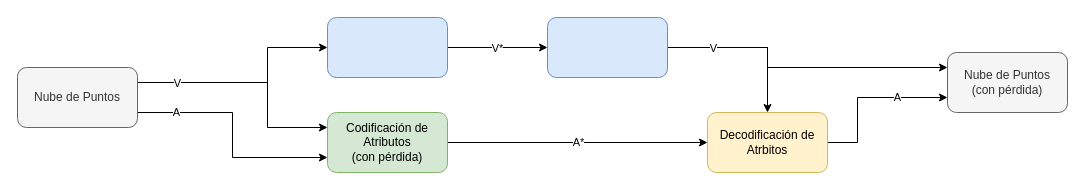
This 1085x190 diagram has some shape labels left out. Here are the shapes that lost their labels. From the top down, the centre of each, then its label:
the point at 387,47: Codificación de Geometría (sin pérdida)
the point at 607,47: Decodificación de Geometría
